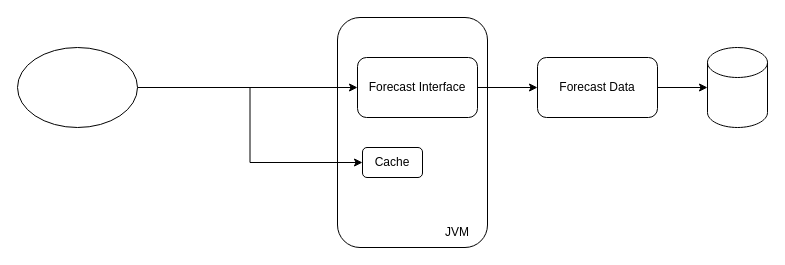
Some shapes in this 785 by 265 pixel diagram are drawn without their labels. Each missing label, with the centre of its shape:
A Layer: (77,87)
dB: (737,87)
